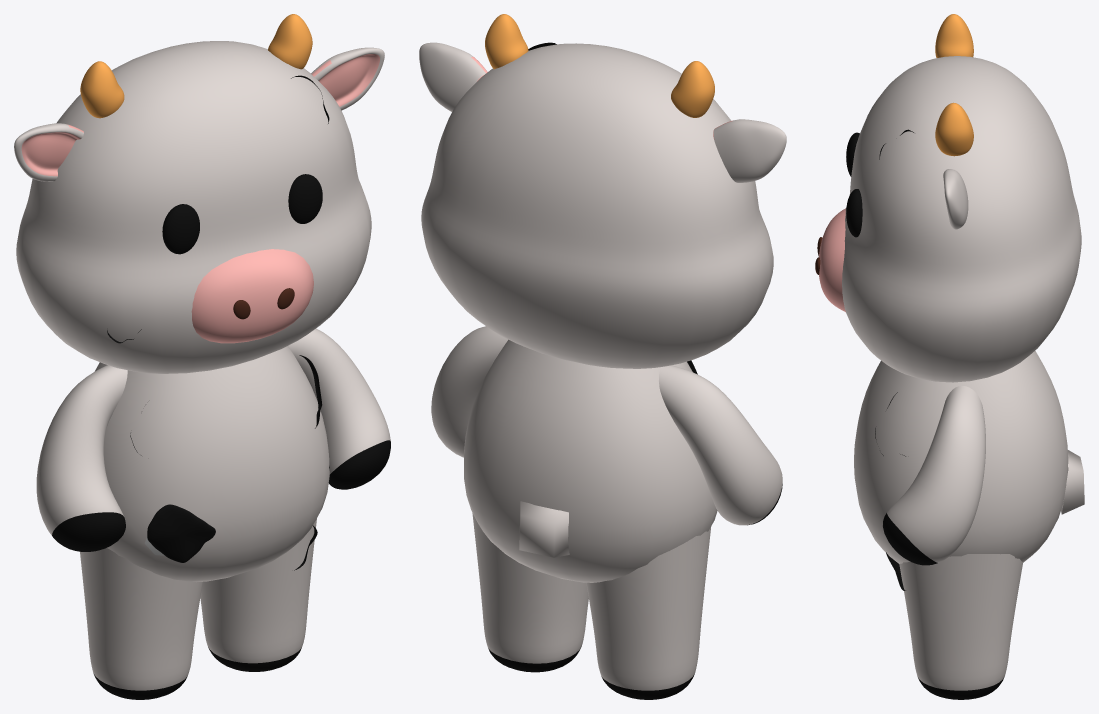
Rendered from Vaca_Protagonista.glb.
3 renders of one model, left to right at view 1: azimuth 30°, elevation 25°; view 2: azimuth 150°, elevation 25°; view 3: azimuth 270°, elevation 25°, orthographic. The views are drawn at different scales.
Visible parts, largest first — view 1: Cube.009, Cube.001, Cube.002, Cube.003, Cube.006, Cube.011, Cube.013, Circle.006, Sphere.002, Sphere.003; view 2: Cube.009, Cube.001, Cube.002, Cube.003, Cube.011, Cube.013, Cube.004; view 3: Cube.009, Cube.001, Cube.002, Cube.003, Cube.013, Cube.006, Cube.011, Cube.004, Sphere.003.
Boxes of the visible parts, x1=… form: Cube.009: x1=16, y1=41, x2=371, y2=373; Cube.001: x1=95, y1=346, x2=329, y2=582; Cube.002: x1=80, y1=518, x2=316, y2=699; Cube.003: x1=36, y1=328, x2=390, y2=551; Cube.006: x1=191, y1=249, x2=313, y2=343; Cube.011: x1=14, y1=47, x2=384, y2=181; Cube.013: x1=80, y1=14, x2=312, y2=118; Circle.006: x1=147, y1=504, x2=215, y2=562; Sphere.002: x1=162, y1=204, x2=199, y2=254; Sphere.003: x1=288, y1=174, x2=322, y2=223; Cube.009: x1=421, y1=43, x2=773, y2=368; Cube.001: x1=464, y1=339, x2=717, y2=582; Cube.002: x1=472, y1=513, x2=711, y2=699; Cube.003: x1=431, y1=326, x2=782, y2=525; Cube.011: x1=419, y1=42, x2=786, y2=182; Cube.013: x1=485, y1=14, x2=714, y2=117; Cube.004: x1=519, y1=501, x2=569, y2=557; Cube.009: x1=842, y1=56, x2=1081, y2=382; Cube.001: x1=854, y1=351, x2=1068, y2=563; Cube.002: x1=899, y1=554, x2=1022, y2=699; Cube.003: x1=883, y1=386, x2=985, y2=565; Cube.013: x1=935, y1=14, x2=973, y2=156; Cube.006: x1=819, y1=208, x2=845, y2=312; Cube.011: x1=943, y1=169, x2=968, y2=229; Cube.004: x1=1061, y1=450, x2=1084, y2=514; Sphere.003: x1=846, y1=189, x2=862, y2=237.
Size of the model in its own units: 1.82 by 3.02 by 1.22.
